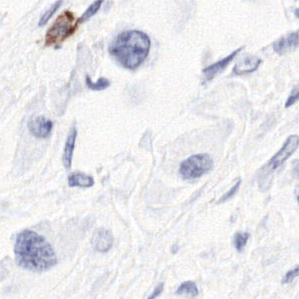Lymphocyte: (45, 9, 79, 46)
